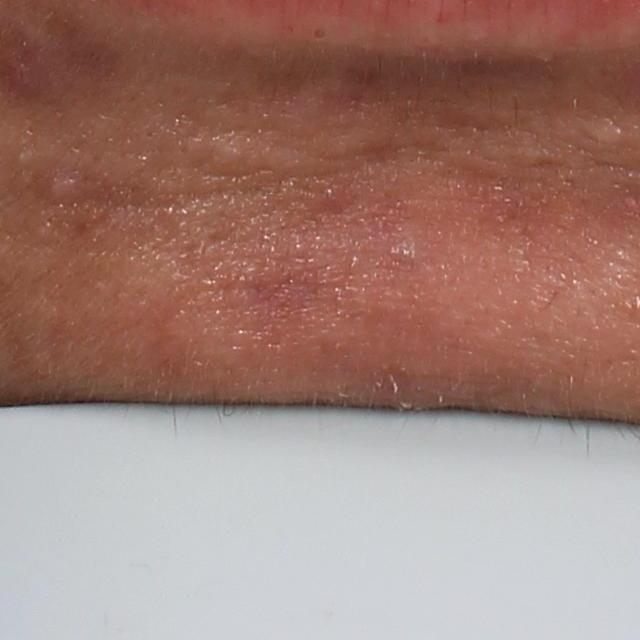comedo: (309, 24, 330, 41)
hypertrophic_scar: (194, 128, 299, 182), (574, 114, 632, 146)
papule: (34, 167, 82, 206)
